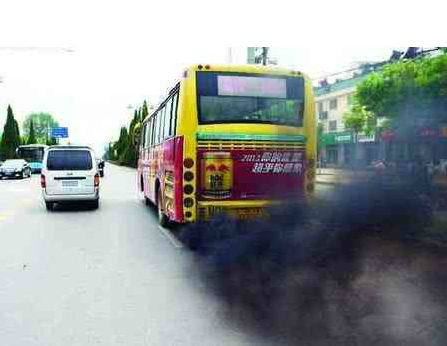smoke: (191, 169, 444, 346)
